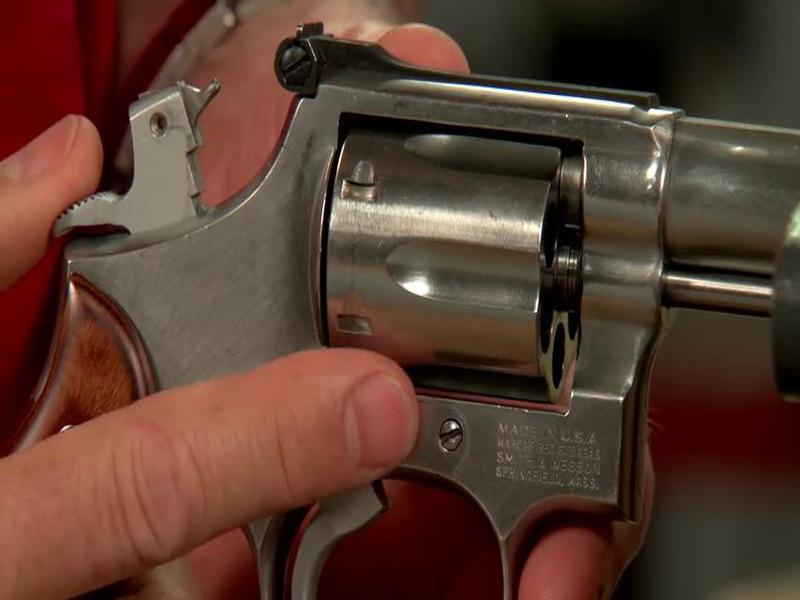Revolver: (47, 20, 800, 542)
